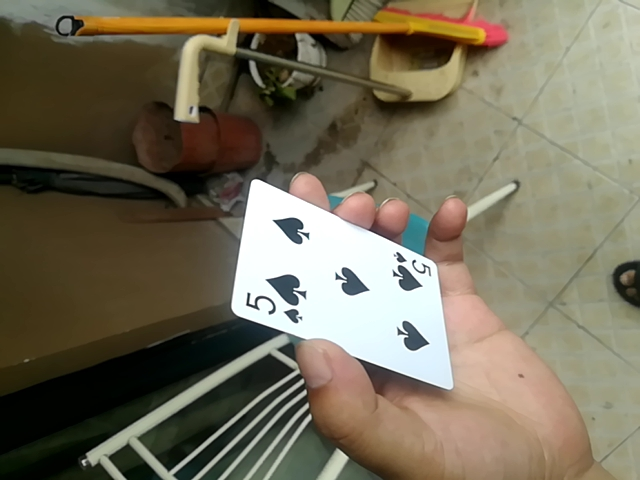ht 5: (227, 175, 443, 387)
